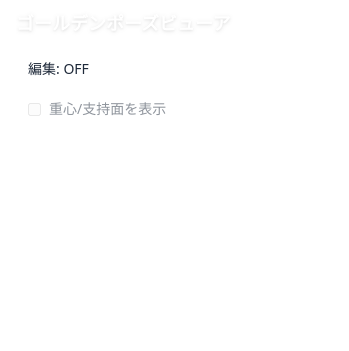
Test case: GoldenViewerPage › ケース 6: gizmo 統合 (reject パスで赤フラッシュ + blockedPairs UI 表示)
The image size is (349, 351).
Click the button "編集: OFF": point(58, 69) [16, 53, 101, 85]
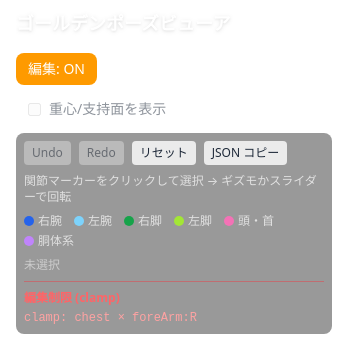
Result: the text "clamp: chest × foreArm:R" is shown at [24, 311, 197, 325]
